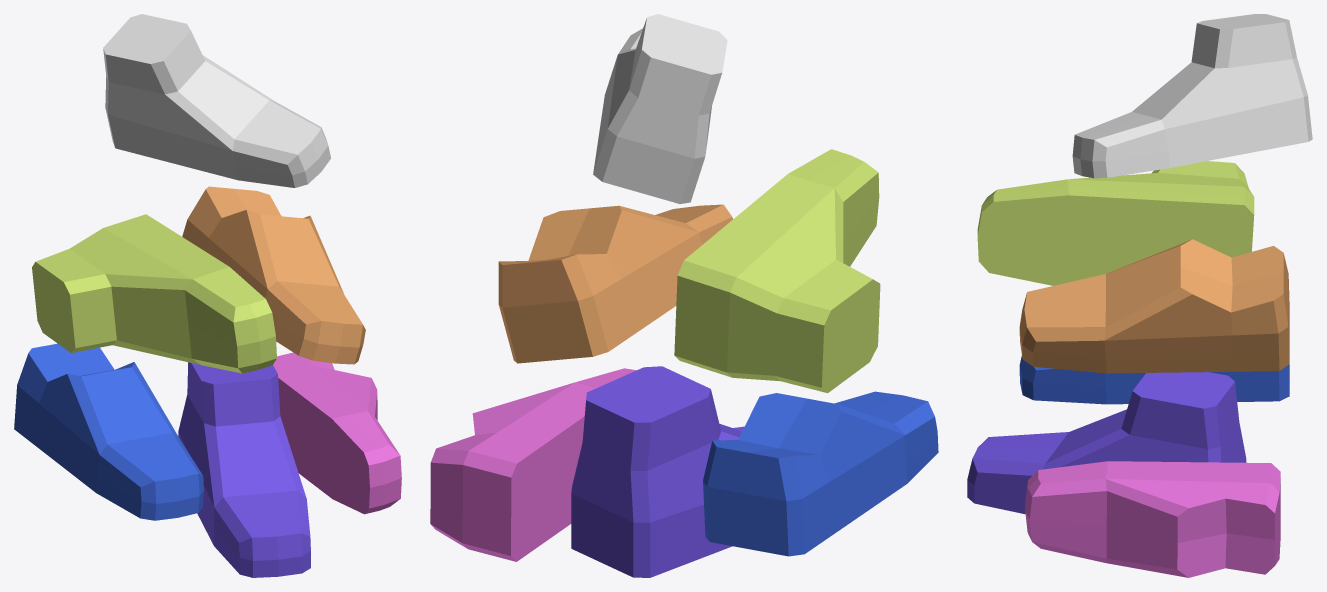
File: sneaker_lo_others.glb
3 views of the same model, side by side, from view 1: azimuth 30°, elevation 25°; view 2: azimuth 150°, elevation 25°; view 3: azimuth 270°, elevation 25° (orthographic). The views are drawn at different scales.
Parts seen in each view (by area): view 1: 立方体.004, 立方体.005, 立方体.002, 立方体, 立方体.001, 立方体.007; view 2: 立方体.004, 立方体.002, 立方体, 立方体.001, 立方体.007, 立方体.005; view 3: 立方体.001, 立方体.007, 立方体.004, 立方体.005, 立方体, 立方体.002.
Part boxes in pixels (x1=…): 立方体.004: x1=32, y1=214, x2=276, y2=373; 立方体.005: x1=103, y1=14, x2=331, y2=187; 立方体.002: x1=14, y1=343, x2=203, y2=520; 立方体: x1=178, y1=362, x2=310, y2=577; 立方体.001: x1=182, y1=186, x2=365, y2=364; 立方体.007: x1=273, y1=352, x2=401, y2=514; 立方体.004: x1=674, y1=149, x2=880, y2=393; 立方体.002: x1=703, y1=391, x2=938, y2=556; 立方体: x1=571, y1=366, x2=744, y2=577; 立方体.001: x1=498, y1=204, x2=732, y2=363; 立方体.007: x1=430, y1=368, x2=636, y2=561; 立方体.005: x1=593, y1=14, x2=727, y2=203; 立方体.001: x1=1019, y1=239, x2=1289, y2=373; 立方体.007: x1=1025, y1=461, x2=1280, y2=577; 立方体.004: x1=977, y1=161, x2=1254, y2=285; 立方体.005: x1=1072, y1=14, x2=1312, y2=178; 立方体: x1=967, y1=372, x2=1246, y2=514; 立方体.002: x1=1019, y1=355, x2=1289, y2=404.
Bounding box in the file's own units: 1.53 × 2.09 × 1.38.
